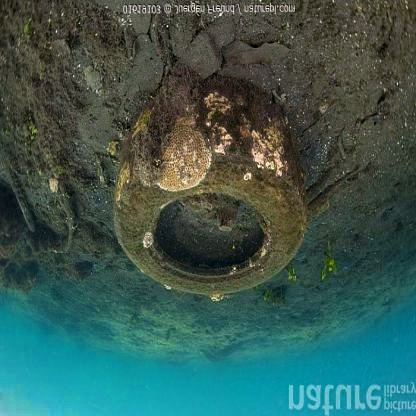tire: (103, 78, 314, 300)
